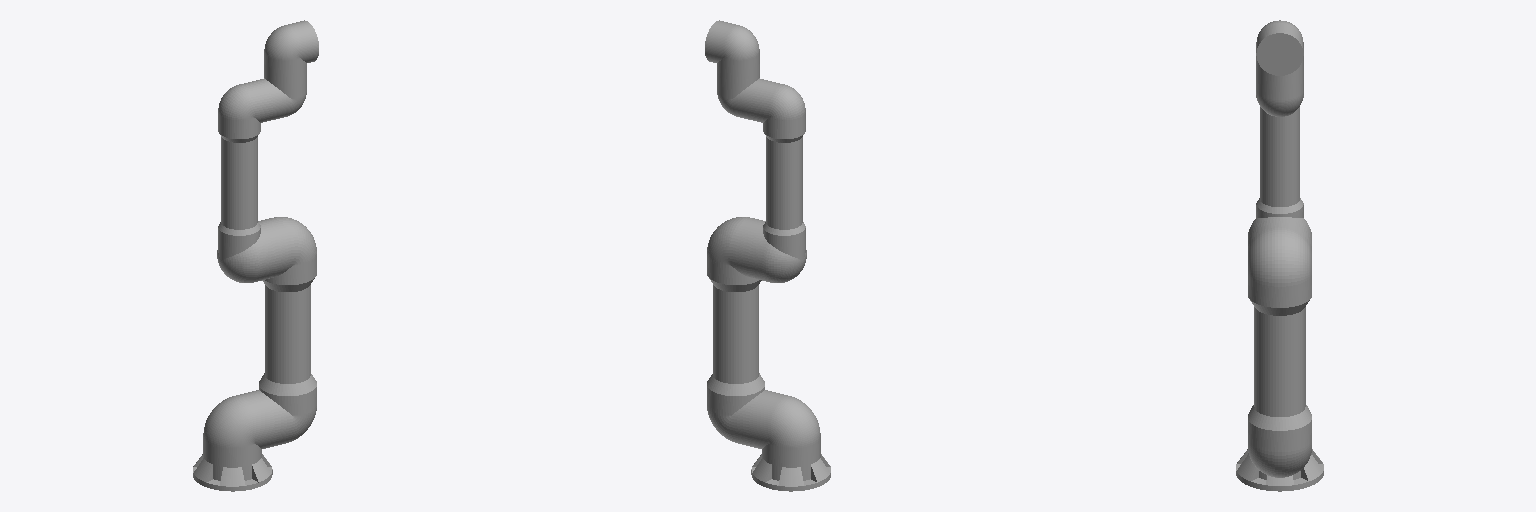
URDF robot description (manipulator):
<?xml version="1.0" ?>
<!-- =================================================================================== -->
<!-- |    This document was autogenerated by xacro from [local-path]/catkin_ws/src/manipulator_description/urdf/manipulator.xacro | -->
<!-- |    EDITING THIS FILE BY HAND IS NOT RECOMMENDED                                 | -->
<!-- =================================================================================== -->
<robot name="manipulator">
    <material name="silver">
        <color rgba="0.700 0.700 0.700 1.000" />
    </material>
    <transmission name="joint1_tran">
        <type>transmission_interface/SimpleTransmission</type>
        <joint name="joint1">
            <hardwareInterface>hardware_interface/EffortJointInterface</hardwareInterface>
        </joint>
        <actuator name="joint1_actr">
            <hardwareInterface>hardware_interface/EffortJointInterface</hardwareInterface>
            <mechanicalReduction>1</mechanicalReduction>
        </actuator>
    </transmission>
    <transmission name="joint2_tran">
        <type>transmission_interface/SimpleTransmission</type>
        <joint name="joint2">
            <hardwareInterface>hardware_interface/EffortJointInterface</hardwareInterface>
        </joint>
        <actuator name="joint2_actr">
            <hardwareInterface>hardware_interface/EffortJointInterface</hardwareInterface>
            <mechanicalReduction>1</mechanicalReduction>
        </actuator>
    </transmission>
    <transmission name="joint3_tran">
        <type>transmission_interface/SimpleTransmission</type>
        <joint name="joint3">
            <hardwareInterface>hardware_interface/EffortJointInterface</hardwareInterface>
        </joint>
        <actuator name="joint3_actr">
            <hardwareInterface>hardware_interface/EffortJointInterface</hardwareInterface>
            <mechanicalReduction>1</mechanicalReduction>
        </actuator>
    </transmission>
    <transmission name="joint4_tran">
        <type>transmission_interface/SimpleTransmission</type>
        <joint name="joint4">
            <hardwareInterface>hardware_interface/EffortJointInterface</hardwareInterface>
        </joint>
        <actuator name="joint4_actr">
            <hardwareInterface>hardware_interface/EffortJointInterface</hardwareInterface>
            <mechanicalReduction>1</mechanicalReduction>
        </actuator>
    </transmission>
    <transmission name="joint5_tran">
        <type>transmission_interface/SimpleTransmission</type>
        <joint name="joint5">
            <hardwareInterface>hardware_interface/EffortJointInterface</hardwareInterface>
        </joint>
        <actuator name="joint5_actr">
            <hardwareInterface>hardware_interface/EffortJointInterface</hardwareInterface>
            <mechanicalReduction>1</mechanicalReduction>
        </actuator>
    </transmission>
    <transmission name="joint6_tran">
        <type>transmission_interface/SimpleTransmission</type>
        <joint name="joint6">
            <hardwareInterface>hardware_interface/EffortJointInterface</hardwareInterface>
        </joint>
        <actuator name="joint6_actr">
            <hardwareInterface>hardware_interface/EffortJointInterface</hardwareInterface>
            <mechanicalReduction>1</mechanicalReduction>
        </actuator>
    </transmission>
    <gazebo reference="base_link">
        <material>Gazebo/Silver</material>
        <mu1>0.0</mu1>
        <mu2>0.0</mu2>
        <selfCollide>true</selfCollide>
        <gravity>true</gravity>
        <plugin name="gazebo_ros_control" filename="libgazebo_ros_control.so">
            <robotNamespace>/</robotNamespace>
        </plugin>
    </gazebo>
    <gazebo reference="link1_1">
        <material>Gazebo/Silver</material>
        <mu1>0.0</mu1>
        <mu2>0.0</mu2>
        <gravity>false</gravity>
        <selfCollide>true</selfCollide>
    </gazebo>
    <gazebo reference="link2_1">
        <material>Gazebo/Silver</material>
        <mu1>0.0</mu1>
        <mu2>0.0</mu2>
        <gravity>false</gravity>
        <selfCollide>true</selfCollide>
    </gazebo>
    <gazebo reference="link3_1">
        <material>Gazebo/Silver</material>
        <mu1>0.0</mu1>
        <mu2>0.0</mu2>
        <gravity>false</gravity>
        <selfCollide>true</selfCollide>
    </gazebo>
    <gazebo reference="link4_1">
        <material>Gazebo/Silver</material>
        <mu1>0.0</mu1>
        <mu2>0.0</mu2>
        <gravity>false</gravity>
        <selfCollide>true</selfCollide>
    </gazebo>
    <gazebo reference="link5_1">
        <material>Gazebo/Silver</material>
        <mu1>0.0</mu1>
        <mu2>0.0</mu2>
        <gravity>false</gravity>
        <selfCollide>true</selfCollide>
    </gazebo>
    <gazebo reference="end_effector_1">
        <material>Gazebo/Silver</material>
        <mu1>0.0</mu1>
        <mu2>0.0</mu2>
        <gravity>false</gravity>
        <selfCollide>true</selfCollide>
    </gazebo>
    <gazebo>
        <plugin filename="libgazebo_ros_control.so" name="gazebo_ros_control" />
    </gazebo>
    <!-- 
<gazebo>
        <plugin name="gazebo_ros_control" filename="libgazebo_ros_control.so">
            <robotNamespace></robotNamespace>
            <robotSimType>gazebo_ros_control/DefaultRobotHWSim</robotSimType>
            <controlPeriod>0.001</controlPeriod>
            <legacyModeNS>false</legacyModeNS>
            <eStopTopic>emergency_stop</eStopTopic>
        </plugin>
    </gazebo> -->
    <link name="base_link">
        <inertial>
            <origin rpy="0 0 0" xyz="1.6995102266612555e-17 0.0 0.017670489394370294" />
            <mass value="4.200935832521195" />
            <inertia ixx="0.005311" ixy="0.0" ixz="0.0" iyy="0.005311" iyz="0.0" izz="0.009517" />
        </inertial>
        <visual>
            <origin rpy="0 0 0" xyz="0 0 0" />
            <geometry>
                <mesh filename="package://manipulator_description/meshes/base_link.stl" scale="0.001 0.001 0.001" />
            </geometry>
            <material name="silver" />
        </visual>
        <collision>
            <origin rpy="0 0 0" xyz="0 0 0" />
            <geometry>
                <mesh filename="package://manipulator_description/meshes/base_link.stl" scale="0.001 0.001 0.001" />
            </geometry>
        </collision>
    </link>
    <link name="link1_1">
        <inertial>
            <origin rpy="0 0 0" xyz="0.009094076659479818 1.7429587320305763e-12 0.05090592334052003" />
            <mass value="0.00001" />
            <inertia ixx="0.013347" ixy="-0.0" ixz="-0.001441" iyy="0.014236" iyz="0.0" izz="0.013347" />
        </inertial>
        <visual>
            <origin rpy="0 0 0" xyz="-0.0 -0.0 -0.04" />
            <geometry>
                <mesh filename="package://manipulator_description/meshes/link1_1.stl" scale="0.001 0.001 0.001" />
            </geometry>
            <material name="silver" />
        </visual>
        <collision>
            <origin rpy="0 0 0" xyz="-0.0 -0.0 -0.04" />
            <geometry>
                <mesh filename="package://manipulator_description/meshes/link1_1.stl" scale="0.001 0.001 0.001" />
            </geometry>
        </collision>
    </link>
    <link name="link2_1">
        <inertial>
            <origin rpy="0 0 0" xyz="0.05460983481316775 1.0340180735266833e-17 0.17500000000000002" />
            <mass value="0.00001" />
            <inertia ixx="0.5365" ixy="0.0" ixz="0.0" iyy="0.538828" iyz="-0.0" izz="0.038575" />
        </inertial>
        <visual>
            <origin rpy="0 0 0" xyz="-0.06 -0.0 -0.1" />
            <geometry>
                <mesh filename="package://manipulator_description/meshes/link2_1.stl" scale="0.001 0.001 0.001" />
            </geometry>
            <material name="silver" />
        </visual>
        <collision>
            <origin rpy="0 0 0" xyz="-0.06 -0.0 -0.1" />
            <geometry>
                <mesh filename="package://manipulator_description/meshes/link2_1.stl" scale="0.001 0.001 0.001" />
            </geometry>
        </collision>
    </link>
    <link name="link3_1">
        <inertial>
            <origin rpy="0 0 0" xyz="-0.039946462921333775 -8.280040038820753e-08 0.13748503978040622" />
            <mass value="0.00001" />
            <inertia ixx="0.234075" ixy="-0.0" ixz="0.000872" iyy="0.233879" iyz="-0.0" izz="0.0136" />
        </inertial>
        <visual>
            <origin rpy="0 0 0" xyz="-0.06 -0.0 -0.45" />
            <geometry>
                <mesh filename="package://manipulator_description/meshes/link3_1.stl" scale="0.001 0.001 0.001" />
            </geometry>
            <material name="silver" />
        </visual>
        <collision>
            <origin rpy="0 0 0" xyz="-0.06 -0.0 -0.45" />
            <geometry>
                <mesh filename="package://manipulator_description/meshes/link3_1.stl" scale="0.001 0.001 0.001" />
            </geometry>
        </collision>
    </link>
    <link name="link4_1">
        <inertial>
            <origin rpy="0 0 0" xyz="0.041464489207529376 1.9275193294255203e-17 0.00853551079246373" />
            <mass value="0.00001" />
            <inertia ixx="0.003484" ixy="0.0" ixz="-0.000413" iyy="0.003986" iyz="0.0" izz="0.003484" />
        </inertial>
        <visual>
            <origin rpy="0 0 0" xyz="-0.065 -0.0 -0.76" />
            <geometry>
                <mesh filename="package://manipulator_description/meshes/link4_1.stl" scale="0.001 0.001 0.001" />
            </geometry>
            <material name="silver" />
        </visual>
        <collision>
            <origin rpy="0 0 0" xyz="-0.065 -0.0 -0.76" />
            <geometry>
                <mesh filename="package://manipulator_description/meshes/link4_1.stl" scale="0.001 0.001 0.001" />
            </geometry>
        </collision>
    </link>
    <link name="link5_1">
        <inertial>
            <origin rpy="0 0 0" xyz="0.00853551079247053 1.927519329425524e-17 0.04146448920752921" />
            <mass value="0.00001" />
            <inertia ixx="0.003484" ixy="0.0" ixz="-0.000413" iyy="0.003986" iyz="0.0" izz="0.003484" />
        </inertial>
        <visual>
            <origin rpy="0 0 0" xyz="-0.115 -0.0 -0.81" />
            <geometry>
                <mesh filename="package://manipulator_description/meshes/link5_1.stl" scale="0.001 0.001 0.001" />
            </geometry>
            <material name="silver" />
        </visual>
        <collision>
            <origin rpy="0 0 0" xyz="-0.115 -0.0 -0.81" />
            <geometry>
                <mesh filename="package://manipulator_description/meshes/link5_1.stl" scale="0.001 0.001 0.001" />
            </geometry>
        </collision>
    </link>
    <link name="end_effector_1">
        <inertial>
            <origin rpy="0 0 0" xyz="0.10068741645979493 -0.002418752798366002 -0.021680440084669295" />
            <mass value="0.00001" />
            <inertia ixx="0.002644" ixy="0.000681" ixz="0.001348" iyy="0.007806" iyz="0.000218" izz="0.009109" />
        </inertial>
        <visual>
            <origin rpy="0 0 0" xyz="-0.165 -0.0 -0.86" />
            <geometry>
                <mesh filename="package://manipulator_description/meshes/end_effector_1.stl" scale="0.001 0.001 0.001" />
            </geometry>
            <material name="silver" />
        </visual>
        <collision>
            <origin rpy="0 0 0" xyz="-0.165 -0.0 -0.86" />
            <geometry>
                <mesh filename="package://manipulator_description/meshes/end_effector_1.stl" scale="0.001 0.001 0.001" />
            </geometry>
        </collision>
    </link>
    <link name="world" />
    <joint name="world_joint" type="fixed">
        <parent link="world" />
        <child link="base_link" />
        <origin rpy="0 0 0" xyz="0 0 0" />
    </joint>
    <joint name="joint1" type="revolute">
        <origin rpy="0 0 0" xyz="0.0 0.0 0.04" />
        <parent link="base_link" />
        <child link="link1_1" />
        <axis xyz="0.0 0.0 1.0" />
        <limit lower="-3.14159" upper="3.14159" effort="1000" velocity="2.0"/>
    </joint>
    <joint name="joint2" type="revolute">
        <origin rpy="0 0 0" xyz="0.06 0.0 0.06" />
        <parent link="link1_1" />
        <child link="link2_1" />
        <axis xyz="1.0 0.0 0.0" />
        <!-- <limit lower="-1.57" upper="1.57" effort="1000" velocity="2.0"/> -->
        <limit effort="1000.0" velocity="2.0" lower="-1.5708" upper="1.5708" />
    </joint>
    <joint name="joint3" type="revolute">
        <origin rpy="0 0 0" xyz="0.0 0.0 0.35" />
        <parent link="link2_1" />
        <child link="link3_1" />
        <axis xyz="-1.0 0.0 0.0" />
        <!-- <limit lower="-2.79253" upper="2.79253" effort="1000" velocity="2.0"/> -->
        <limit lower="-3.14159" upper="3.14159" effort="1000" velocity="2.0"/>
    </joint>
    <joint name="joint4" type="revolute">
        <origin rpy="0 0 0" xyz="0.005 0.0 0.31" />
        <parent link="link3_1" />
        <child link="link4_1" />
        <axis xyz="1.0 0.0 0.0" />
        <limit lower="-3.14159" upper="3.14159" effort="1000" velocity="2.0"/>
    </joint>
    <joint name="joint5" type="revolute">
        <origin rpy="0 0 0" xyz="0.05 0.0 0.05" />
        <parent link="link4_1" />
        <child link="link5_1" />
        <axis xyz="0.0 0.0 1.0" />
        <limit lower="-3.14159" upper="3.14159" effort="1000" velocity="2.0"/>
    </joint>
    <joint name="joint6" type="revolute">
        <origin rpy="0 0 0" xyz="0.05 0.0 0.05" />
        <parent link="link5_1" />
        <child link="end_effector_1" />
        <axis xyz="1.0 0.0 0.0" />
        <limit lower="-3.29867" upper="3.29867" effort="1000" velocity="2.0"/>
    </joint>
    <transmission name="joint1_transmission">
        <type>transmission_interface/SimpleTransmission</type>
        <!-- The EffortJointInterface works best with Gazebo using torques to actuate the joints -->
        <joint name="joint1">
            <hardwareInterface>hardware_interface/EffortJointInterface</hardwareInterface>
        </joint>
        <actuator name="joint1_motor">
            <hardwareInterface>hardware_interface/EffortJointInterface</hardwareInterface>
            <mechanicalReduction>1</mechanicalReduction>
        </actuator>
    </transmission>
    <transmission name="joint2_transmission">
        <type>transmission_interface/SimpleTransmission</type>
        <!-- The EffortJointInterface works best with Gazebo using torques to actuate the joints -->
        <joint name="joint2">
            <hardwareInterface>hardware_interface/EffortJointInterface</hardwareInterface>
        </joint>
        <actuator name="joint2_motor">
            <hardwareInterface>hardware_interface/EffortJointInterface</hardwareInterface>
            <mechanicalReduction>1</mechanicalReduction>
        </actuator>
    </transmission>
    <transmission name="joint3_transmission">
        <type>transmission_interface/SimpleTransmission</type>
        <!-- The EffortJointInterface works best with Gazebo using torques to actuate the joints -->
        <joint name="joint3">
            <hardwareInterface>hardware_interface/EffortJointInterface</hardwareInterface>
        </joint>
        <actuator name="joint3_motor">
            <hardwareInterface>hardware_interface/EffortJointInterface</hardwareInterface>
            <mechanicalReduction>1</mechanicalReduction>
        </actuator>
    </transmission>
    <transmission name="joint4_transmission">
        <type>transmission_interface/SimpleTransmission</type>
        <!-- The EffortJointInterface works best with Gazebo using torques to actuate the joints -->
        <joint name="joint4">
            <hardwareInterface>hardware_interface/EffortJointInterface</hardwareInterface>
        </joint>
        <actuator name="joint4_motor">
            <hardwareInterface>hardware_interface/EffortJointInterface</hardwareInterface>
            <mechanicalReduction>1</mechanicalReduction>
        </actuator>
    </transmission>
    <transmission name="joint5_transmission">
        <type>transmission_interface/SimpleTransmission</type>
        <!-- The EffortJointInterface works best with Gazebo using torques to actuate the joints -->
        <joint name="joint5">
            <hardwareInterface>hardware_interface/EffortJointInterface</hardwareInterface>
        </joint>
        <actuator name="joint5_motor">
            <hardwareInterface>hardware_interface/EffortJointInterface</hardwareInterface>
            <mechanicalReduction>1</mechanicalReduction>
        </actuator>
    </transmission>
    <transmission name="joint6_transmission">
        <type>transmission_interface/SimpleTransmission</type>
        <!-- The EffortJointInterface works best with Gazebo using torques to actuate the joints -->
        <joint name="joint6">
            <hardwareInterface>hardware_interface/EffortJointInterface</hardwareInterface>
        </joint>
        <actuator name="joint6_motor">
            <hardwareInterface>hardware_interface/EffortJointInterface</hardwareInterface>
            <mechanicalReduction>1</mechanicalReduction>
        </actuator>
    </transmission>

</robot>

--- Render facts (derived) ---
The picture shows the robot from 3 angles, left to right: view 1: azimuth 30°, elevation 25°; view 2: azimuth 150°, elevation 25°; view 3: azimuth 270°, elevation 25°; orthographic projection.
Model manipulator with 8 links and 7 joints (6 revolute, 1 fixed), rooted at world, posed every joint at zero.
Links seen in each view (by area): view 1: link2_1, link3_1, link1_1, link5_1, base_link, link4_1; view 2: link2_1, link3_1, link1_1, link5_1, base_link, link4_1; view 3: link2_1, link3_1, link5_1, base_link, link4_1.
Boxes of the visible links, x1=… form: link2_1: x1=256, y1=217, x2=316, y2=447; link3_1: x1=217, y1=80, x2=274, y2=282; link1_1: x1=203, y1=391, x2=274, y2=467; link5_1: x1=264, y1=20, x2=318, y2=79; base_link: x1=193, y1=454, x2=272, y2=491; link4_1: x1=260, y1=72, x2=306, y2=120; link2_1: x1=707, y1=217, x2=767, y2=447; link3_1: x1=749, y1=80, x2=806, y2=282; link1_1: x1=749, y1=391, x2=820, y2=467; link5_1: x1=705, y1=20, x2=759, y2=79; base_link: x1=751, y1=454, x2=830, y2=491; link4_1: x1=717, y1=72, x2=763, y2=120; link2_1: x1=1248, y1=218, x2=1311, y2=477; link3_1: x1=1248, y1=95, x2=1311, y2=240; link5_1: x1=1256, y1=20, x2=1303, y2=78; base_link: x1=1236, y1=449, x2=1323, y2=491; link4_1: x1=1256, y1=70, x2=1303, y2=116.
Size in the robot's own frame: 0.25 by 0.15 by 0.9 metres.
Meshes: 7 distinct files referenced, 6 mesh visuals loaded (6 binary STL); not drawn: 1 (reference not matched to a file when rendering).